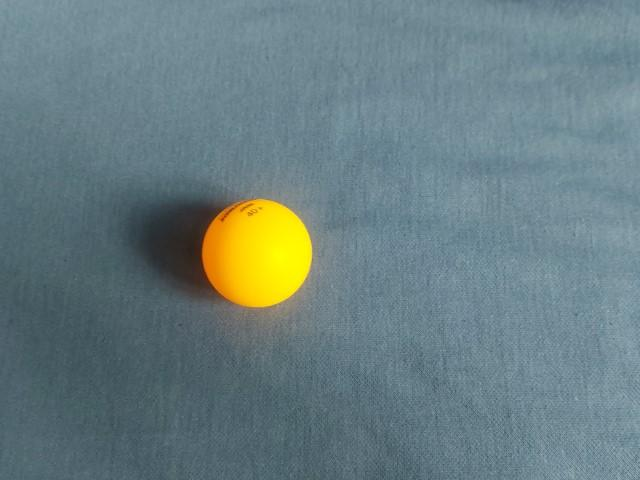oball: (322, 168, 442, 287)
